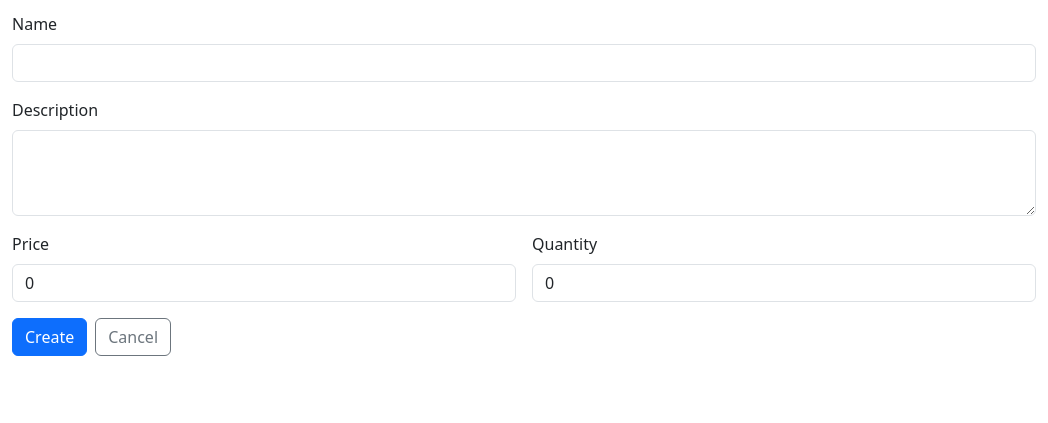
it: ProductForm › shows validation errors on empty submit
Click the button "Create" at [50, 337], box left=12, top=318, right=87, bottom=356
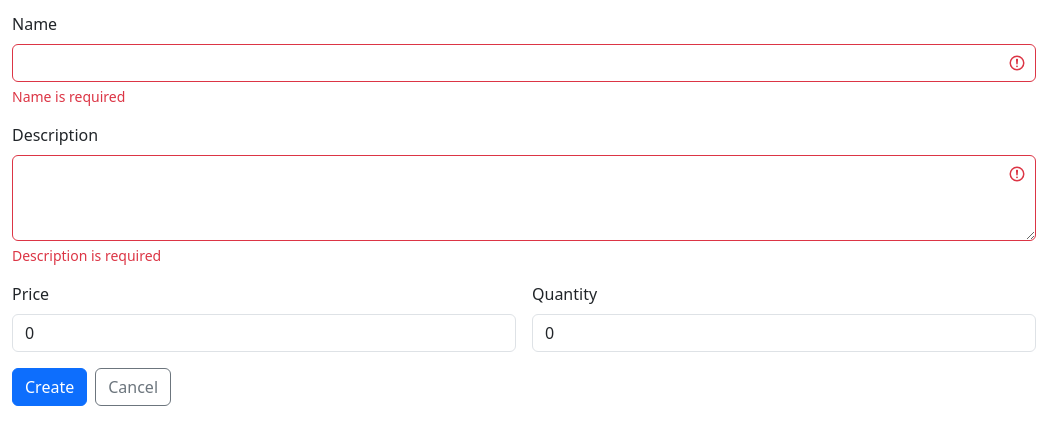
Expected: the text "Name is required" is shown, left=12, top=87, right=125, bottom=106
Expected: the text "Description is required" is shown, left=12, top=246, right=161, bottom=265
